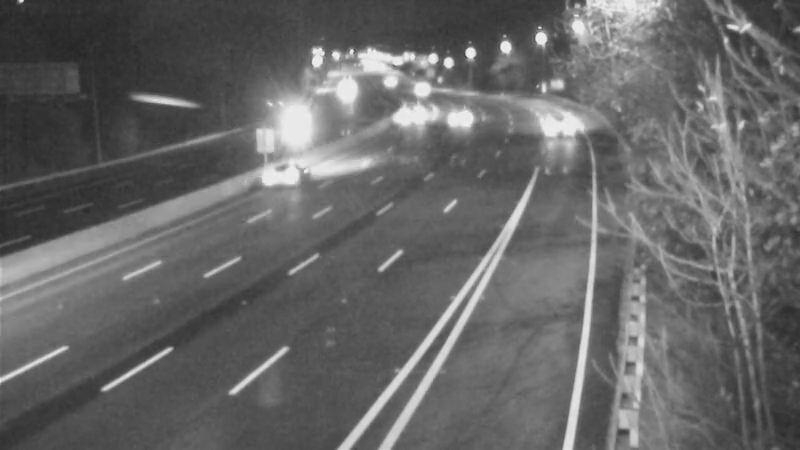vehicle: (240, 139, 320, 219), (360, 56, 410, 106), (394, 64, 444, 114), (532, 101, 582, 151), (428, 94, 478, 144), (393, 90, 443, 140), (254, 116, 304, 166), (321, 64, 371, 114)
